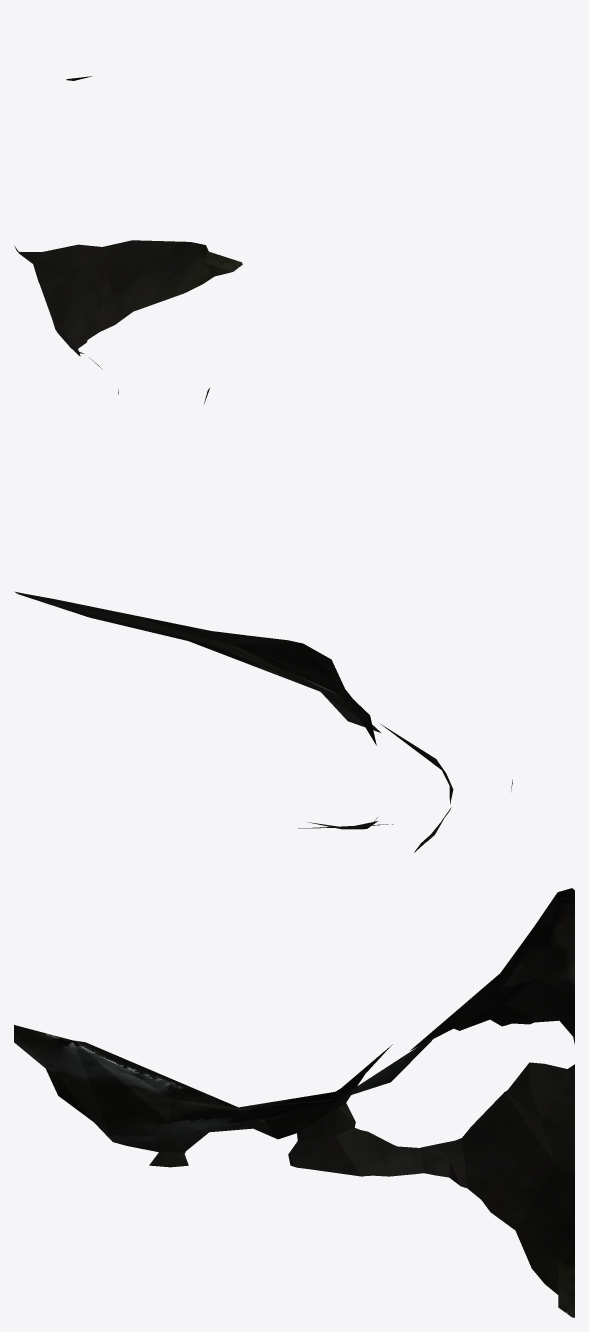
3 views of the same model, one above another, from view 1: azimuth 30°, elevation 25°; view 2: azimuth 150°, elevation 25°; view 3: azimuth 270°, elevation 25° (orthographic). The views are drawn at different scales.
Bounding box in the file's own units: 0.8374 × 0.5324 × 0.8374.
Materials: 4 (4 with a texture image).
